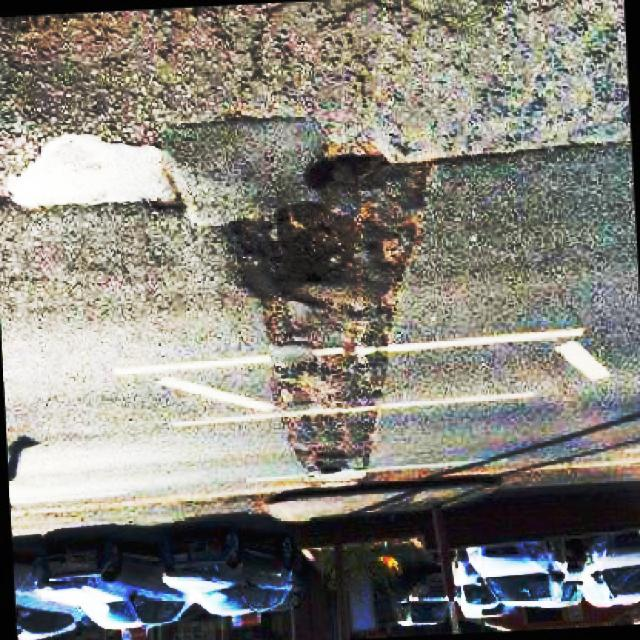pothole: (231, 145, 463, 480), (9, 129, 185, 214)
